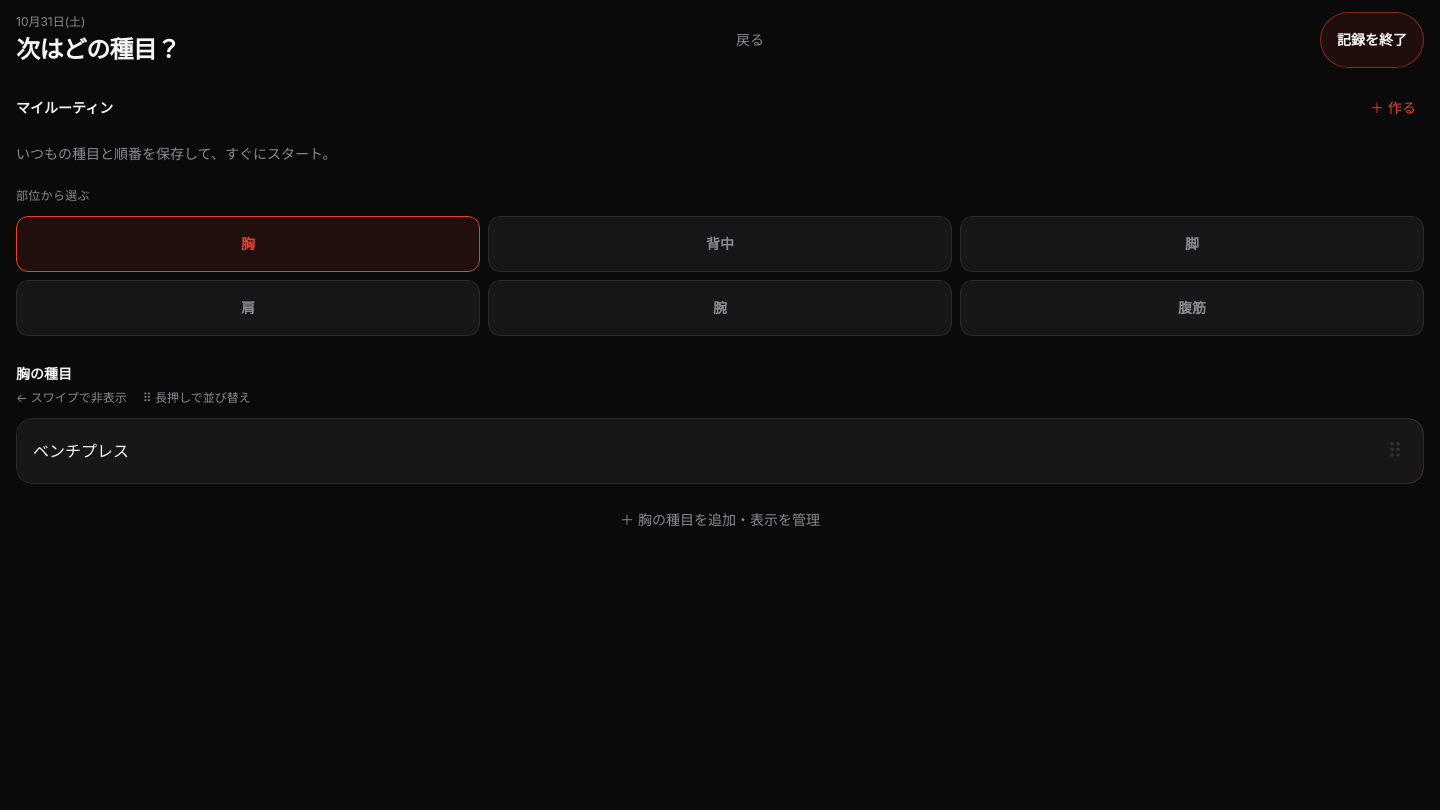
Test: LogPage › continues today's workout instead of starting a second one for the day
The width and height of the screenshot is (1440, 810).
Expected: the heading "次はどの種目？" is shown, left=16, top=34, right=180, bottom=66
Click the button "ベンチプレス": (81, 451) left=17, top=419, right=1367, bottom=483
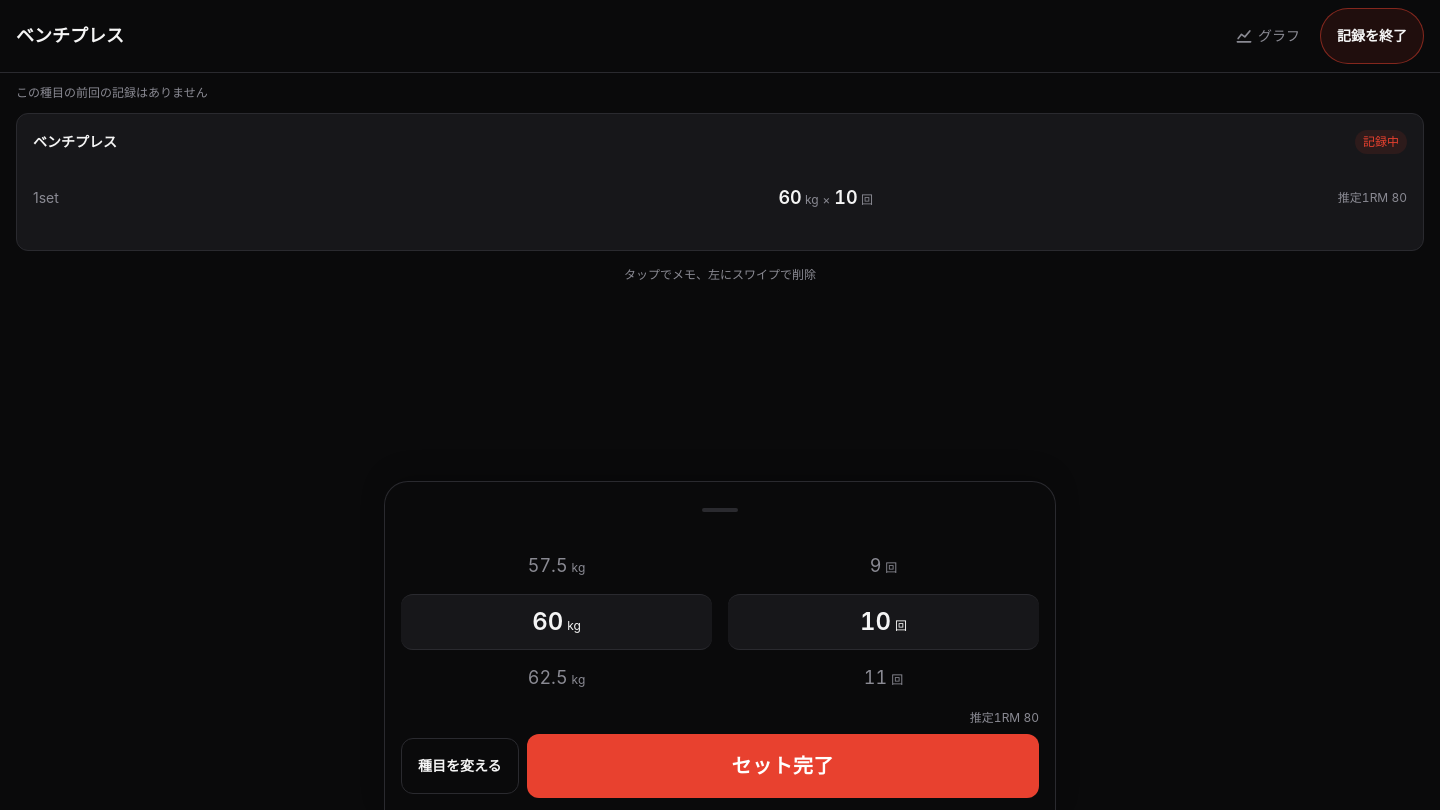
Click the button "セット完了": (783, 766) left=527, top=734, right=1039, bottom=798
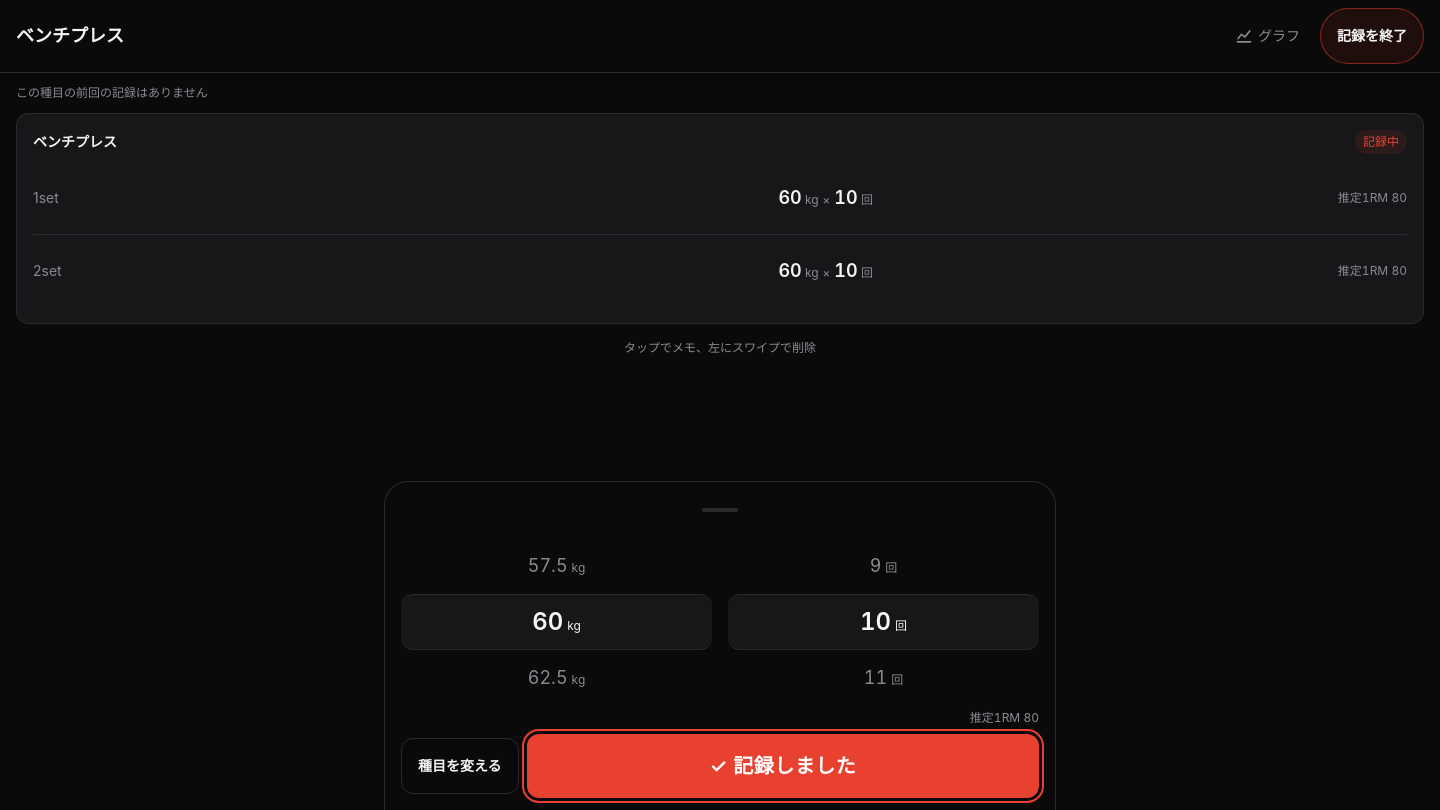
Expected: the number of list items is 2, left=33, top=162, right=1407, bottom=235; left=33, top=235, right=1407, bottom=307
